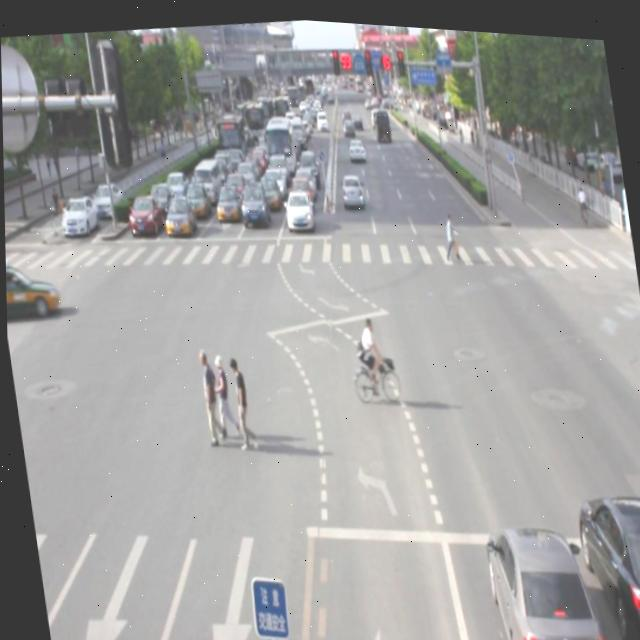car: (480, 512, 595, 640), (571, 478, 640, 640)
